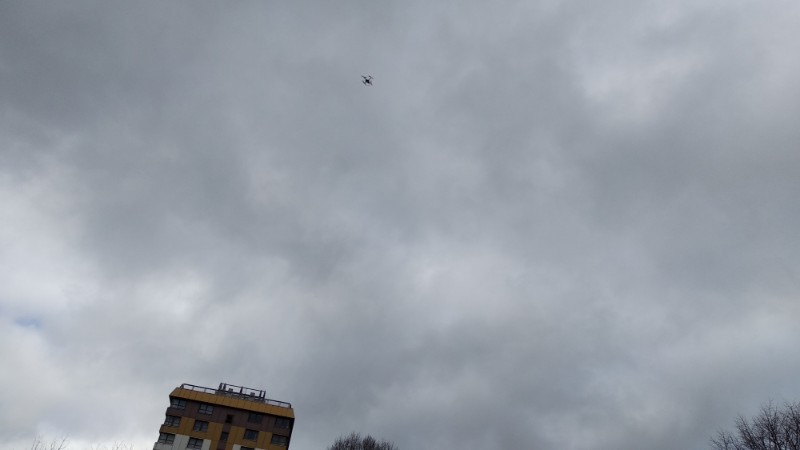drone: (361, 74, 374, 87)
